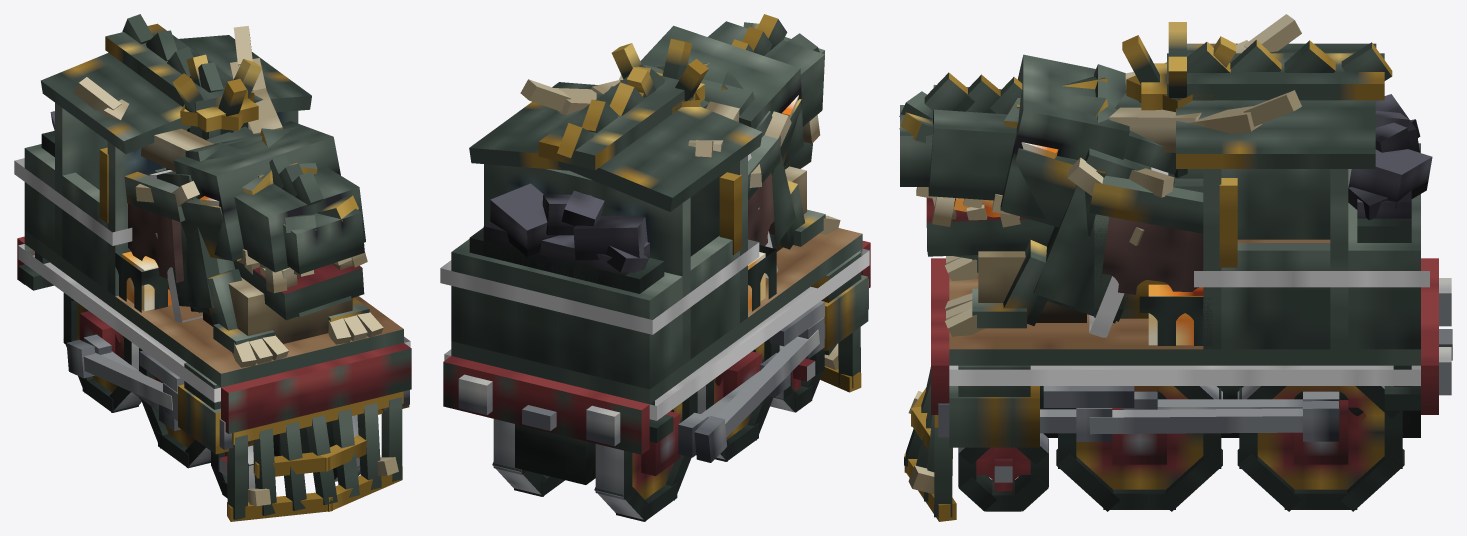
Rendered from dragon_locomotive.obj.
3 views of the same model, side by side, from view 1: azimuth 30°, elevation 25°; view 2: azimuth 150°, elevation 25°; view 3: azimuth 270°, elevation 25° (orthographic). The views are drawn at different scales.
Parts seen in each view (by area): view 1: footplate, beam_front, cab_roof_r, head, snout, trim, jaw, snout_tip, chest, cab_side_mirror, cab_back, cab_ridge (+63 smaller); view 2: bunker, cab_roof_r, footplate, beam_back, cab_back, head, trim_band, cab_ridge, trim, cab_roof_l, cab_side_mirror, chassis (+51 smaller); view 3: footplate, cab_roof_l, cab_side, trim, head, bunker, snout, cab_side_mirror, wheel_bl, neck, cab_ridge, wing_membrane (+74 smaller).
Part boxes in pixels (x1=…): footplate: x1=24, y1=230, x2=403, y2=387; beam_front: x1=221, y1=343, x2=411, y2=433; cab_roof_r: x1=41, y1=52, x2=190, y2=153; head: x1=173, y1=121, x2=340, y2=261; snout: x1=234, y1=166, x2=365, y2=272; trim: x1=18, y1=244, x2=410, y2=402; jaw: x1=233, y1=261, x2=364, y2=320; snout_tip: x1=283, y1=208, x2=364, y2=274; chest: x1=203, y1=277, x2=352, y2=343; cab_side_mirror: x1=62, y1=172, x2=107, y2=290; cab_back: x1=55, y1=103, x2=107, y2=257; cab_ridge: x1=105, y1=23, x2=247, y2=112; bunker: x1=451, y1=239, x2=682, y2=389; cab_roof_r: x1=558, y1=106, x2=762, y2=211; footplate: x1=451, y1=228, x2=862, y2=404; beam_back: x1=443, y1=356, x2=649, y2=454; cab_back: x1=484, y1=164, x2=690, y2=364; head: x1=640, y1=25, x2=803, y2=166; trim_band: x1=440, y1=239, x2=759, y2=334; cab_ridge: x1=538, y1=75, x2=693, y2=170; trim: x1=444, y1=248, x2=869, y2=420; cab_roof_l: x1=469, y1=82, x2=613, y2=170; cab_side_mirror: x1=690, y1=236, x2=739, y2=359; chassis: x1=515, y1=424, x2=595, y2=484; footplate: x1=949, y1=276, x2=1420, y2=365; cab_roof_l: x1=1176, y1=100, x2=1375, y2=168; cab_side: x1=1221, y1=243, x2=1330, y2=349; trim: x1=949, y1=365, x2=1420, y2=385; head: x1=1000, y1=54, x2=1129, y2=219; bunker: x1=1348, y1=143, x2=1420, y2=349; snout: x1=928, y1=84, x2=1016, y2=200; cab_side_mirror: x1=1221, y1=169, x2=1330, y2=239; wheel_bl: x1=1257, y1=386, x2=1384, y2=489; neck: x1=1033, y1=148, x2=1174, y2=321; cab_ridge: x1=1167, y1=53, x2=1384, y2=100; wing_membrane: x1=1100, y1=216, x2=1203, y2=294.
Bounding box in the file's own units: 15 × 26.62 × 30.5.
Materials: 1 (1 with a texture image).
